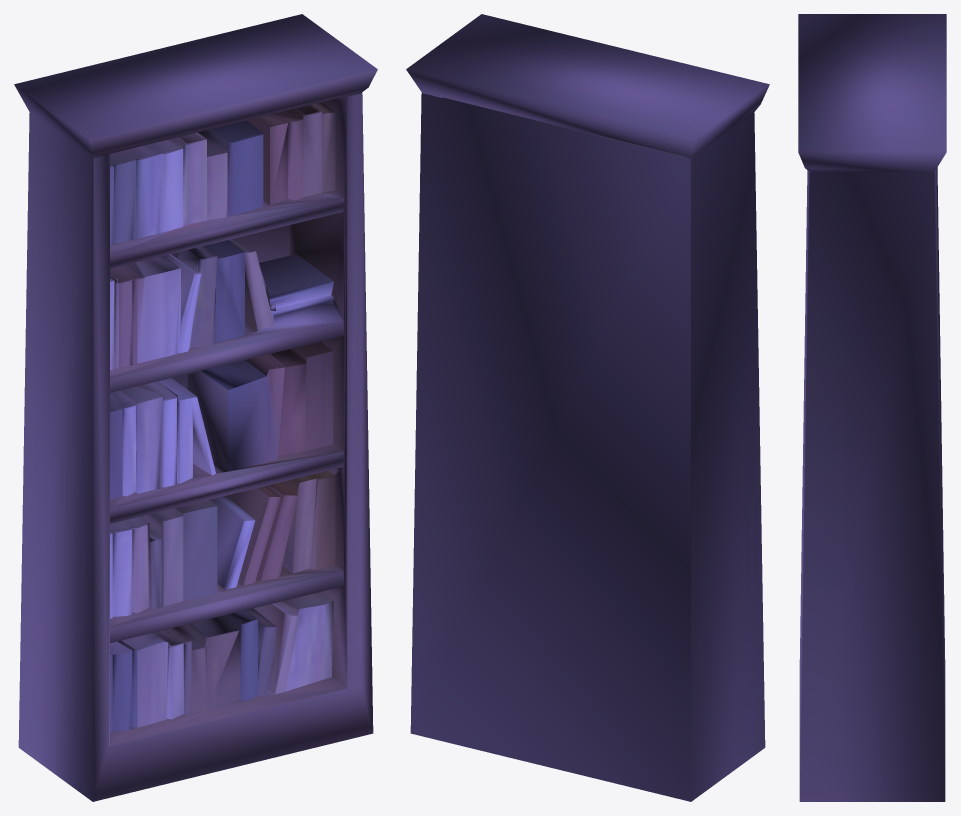
Rendered from model.progressive.glb.
The picture shows the model from 3 angles, left to right: view 1: azimuth 30°, elevation 25°; view 2: azimuth 150°, elevation 25°; view 3: azimuth 270°, elevation 25°; orthographic projection.
Parts seen in each view (by area): view 1: texture_pbr_20250901; view 2: texture_pbr_20250901; view 3: texture_pbr_20250901.
Part boxes in pixels (x1,y1,x2,y2): texture_pbr_20250901: [14, 14, 377, 801]; texture_pbr_20250901: [406, 14, 769, 801]; texture_pbr_20250901: [798, 14, 946, 801].
Bounding box in the file's own units: 0.8594 × 1.89 × 0.3906.
1 material, 1 textured.
